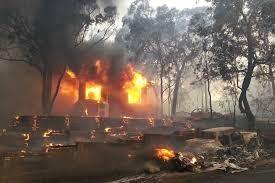fire: (60, 63, 109, 102), (122, 64, 148, 105), (155, 146, 175, 160)
